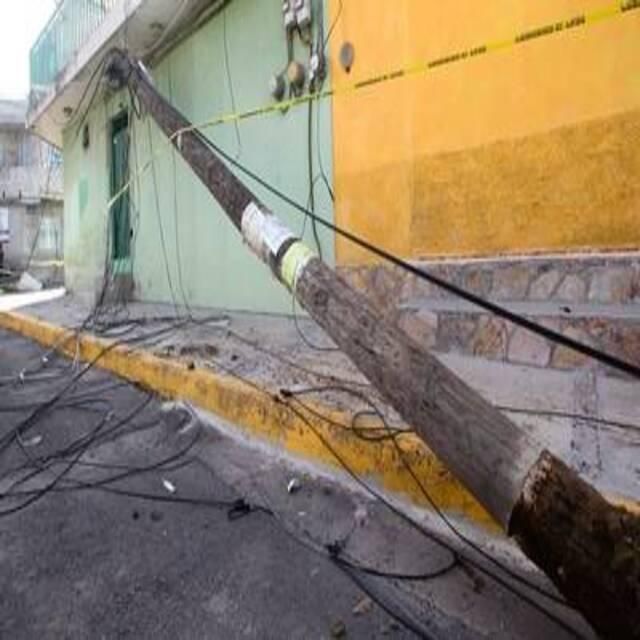Inclined Pole: (97, 50, 640, 640)
